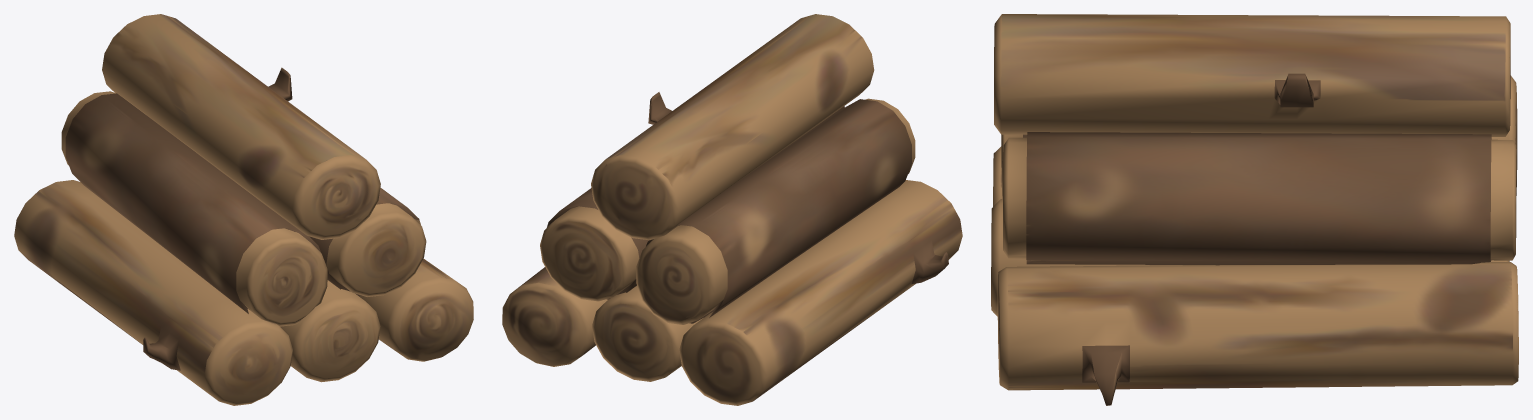
The model's file is madera.fbx.
The picture shows the model from 3 angles, left to right: view 1: azimuth 30°, elevation 25°; view 2: azimuth 150°, elevation 25°; view 3: azimuth 270°, elevation 25°; orthographic projection. The views are drawn at different scales.
Parts seen in each view (by area): view 1: Cylinder.003; view 2: Cylinder.003; view 3: Cylinder.003.
Boxes of the visible parts, x1,y1,x2,y2 form: Cylinder.003: (14,14,473,405); Cylinder.003: (502,14,962,405); Cylinder.003: (991,14,1518,405).
Size of the model in its own units: 403 by 281 by 448.
